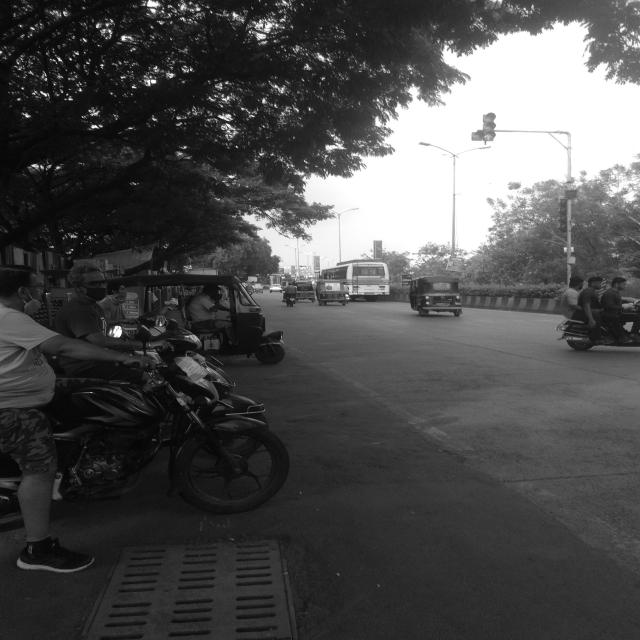Auto: (110, 274, 285, 364), (403, 275, 462, 316), (317, 280, 348, 305), (293, 280, 315, 302)
Bus: (322, 260, 390, 300)
Two Wheeler: (45, 365, 288, 512), (138, 312, 267, 422), (0, 452, 22, 515), (557, 319, 595, 351), (602, 326, 640, 346), (285, 294, 297, 306), (627, 311, 638, 322)
